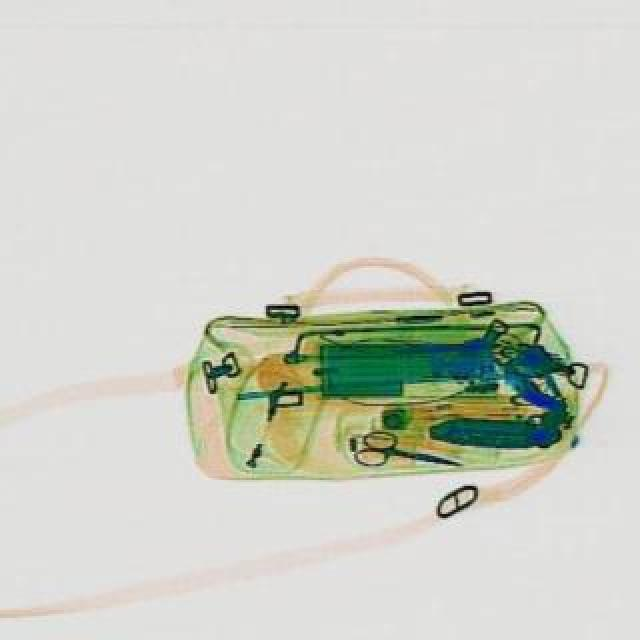pliers: (350, 422, 466, 484)
